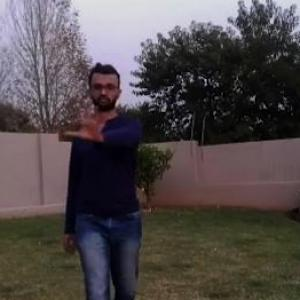follow_hand: (61, 98, 116, 142)
